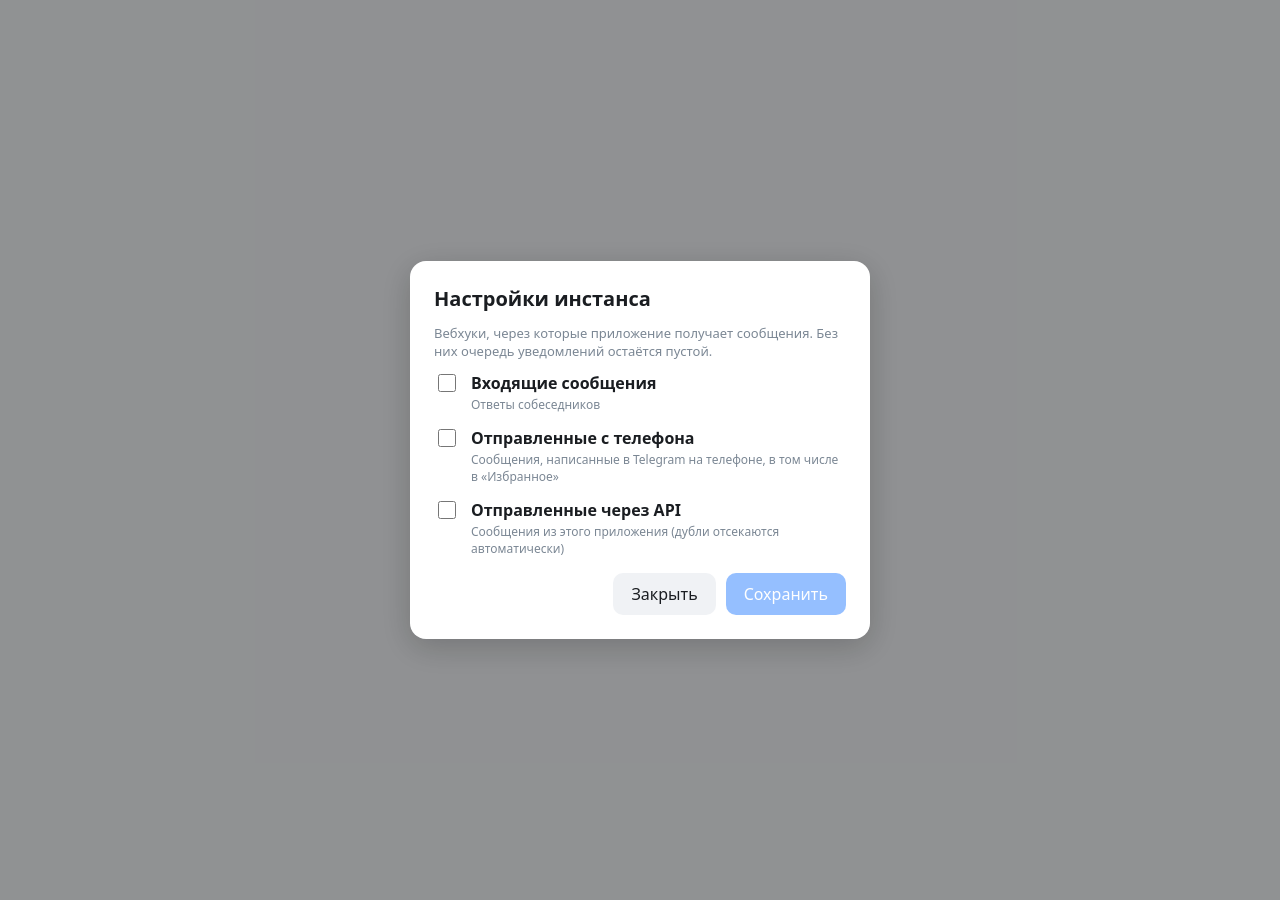
Test: SettingsDialog › shows a save error and keeps the changes
Click the switch labelled "Входящие сообщения Ответы собеседников" at (447, 383), box top-left (438, 374), bottom-right (456, 392)
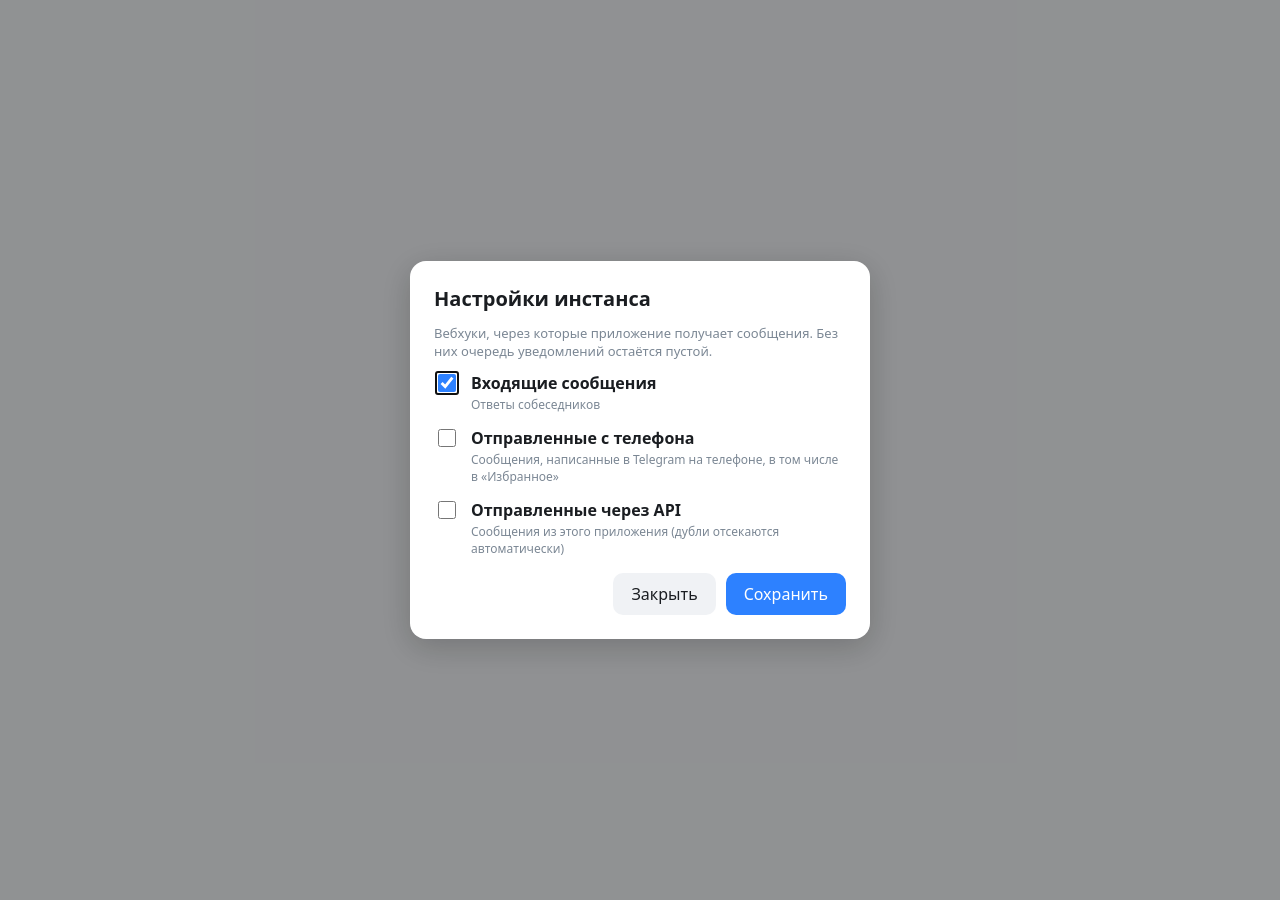
Click the button "Сохранить" at (786, 594), box top-left (726, 573), bottom-right (846, 615)
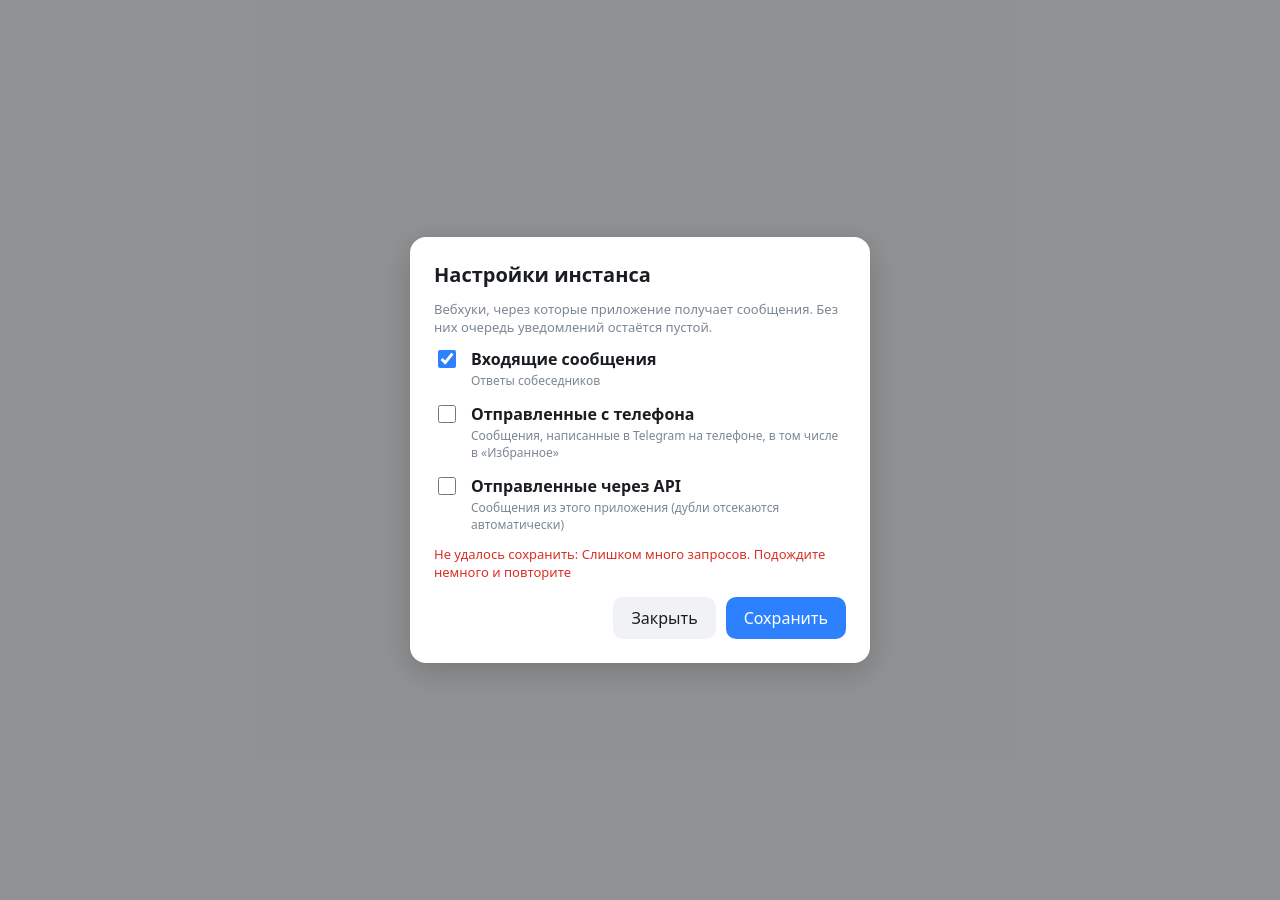
Expected: the button "Сохранить" is enabled, top-left (726, 597), bottom-right (846, 639)
Expected: the message shows "Слишком много запросов", top-left (434, 545), bottom-right (825, 581)
